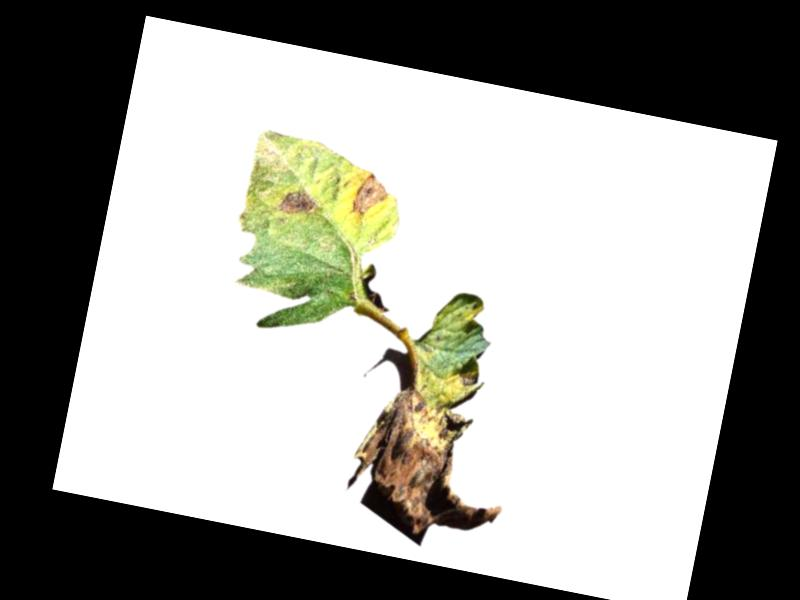Early_blight: (339, 350, 530, 551), (351, 171, 392, 219), (279, 185, 321, 220)
